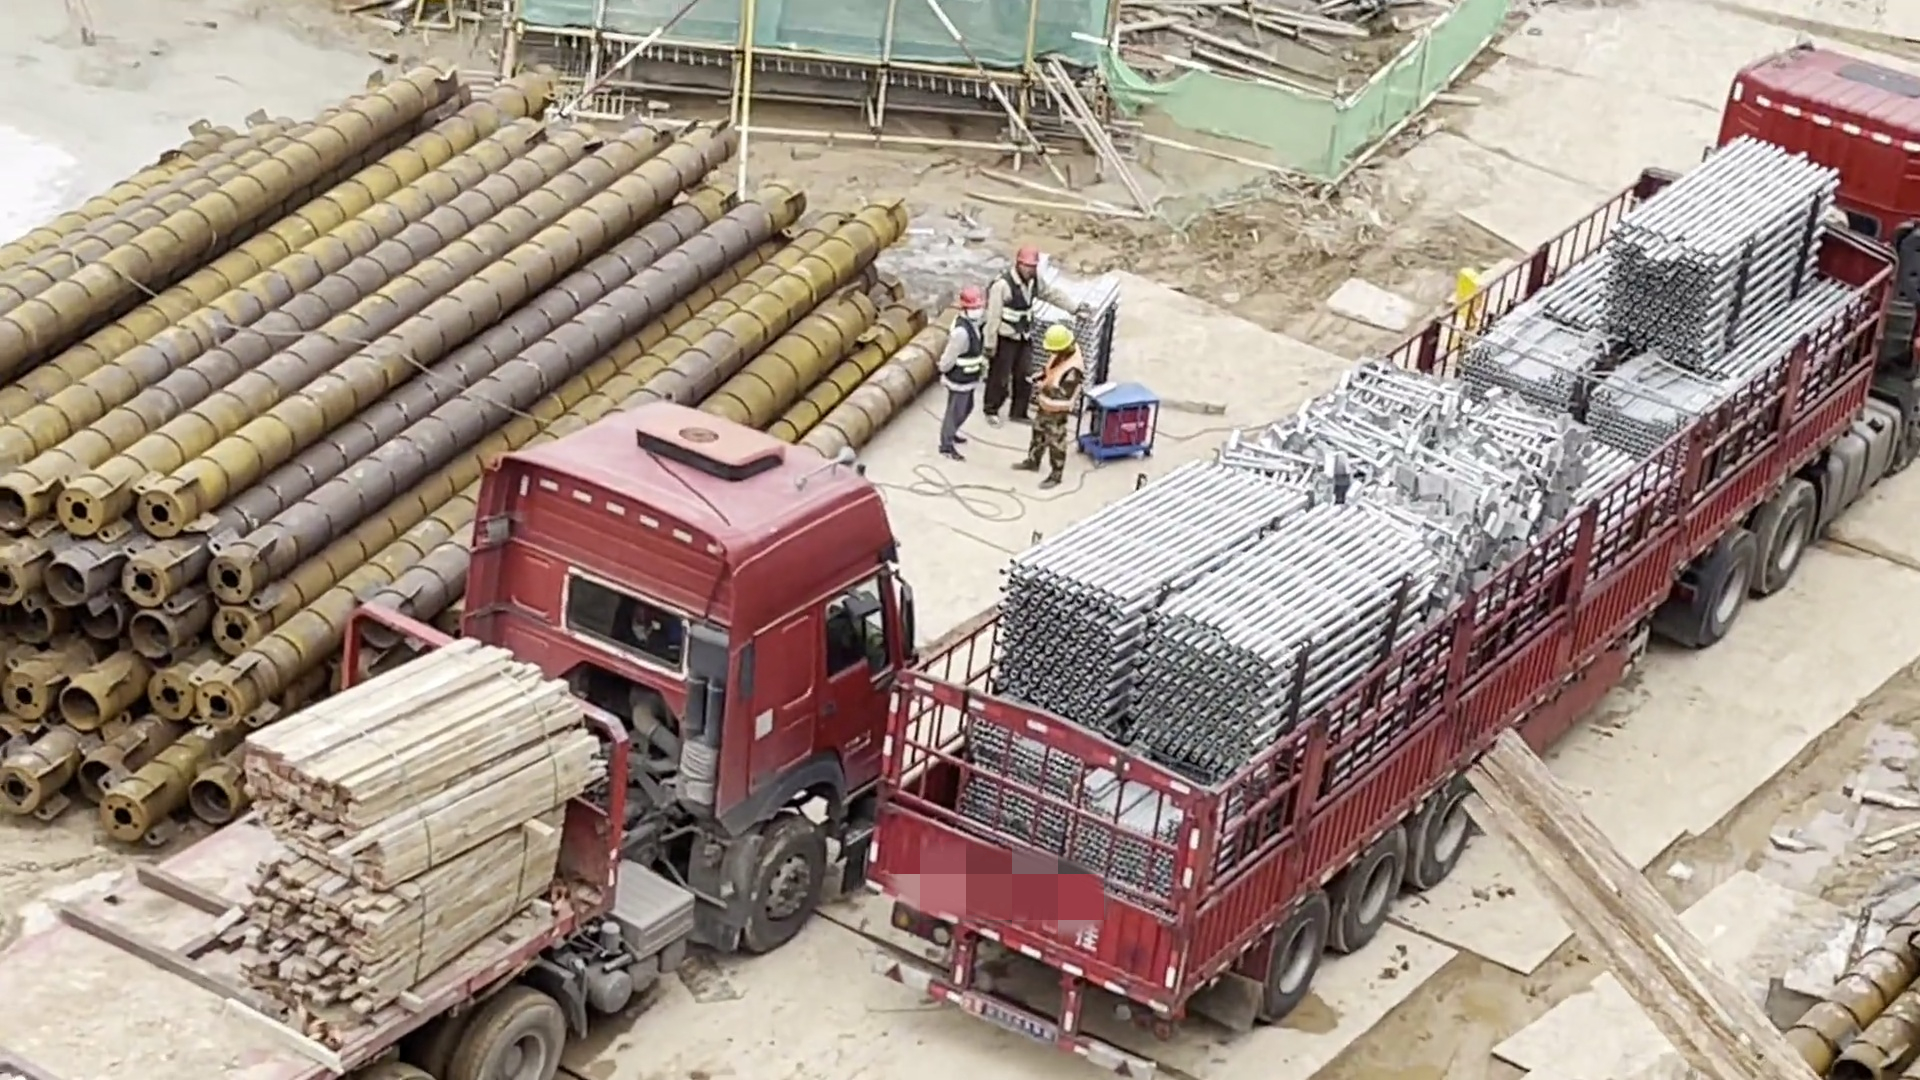helmet: (1039, 326, 1078, 352), (956, 285, 984, 311), (1017, 242, 1043, 266)
person: (990, 235, 1043, 435), (937, 280, 989, 461), (1036, 317, 1076, 486)
vest: (1031, 350, 1080, 415), (949, 310, 987, 388), (1000, 271, 1037, 337)
